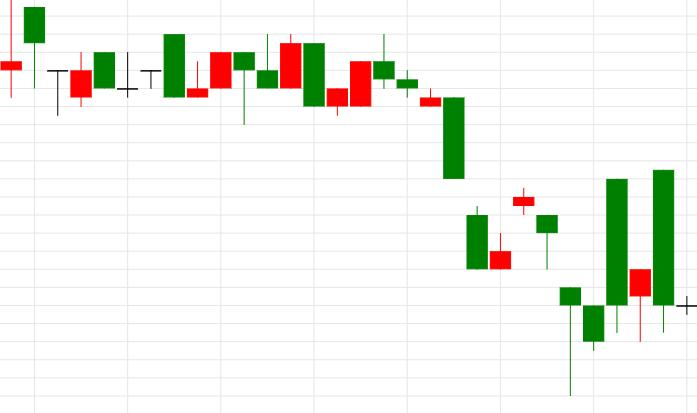hanging_man_fall: (163, 33, 256, 124)
